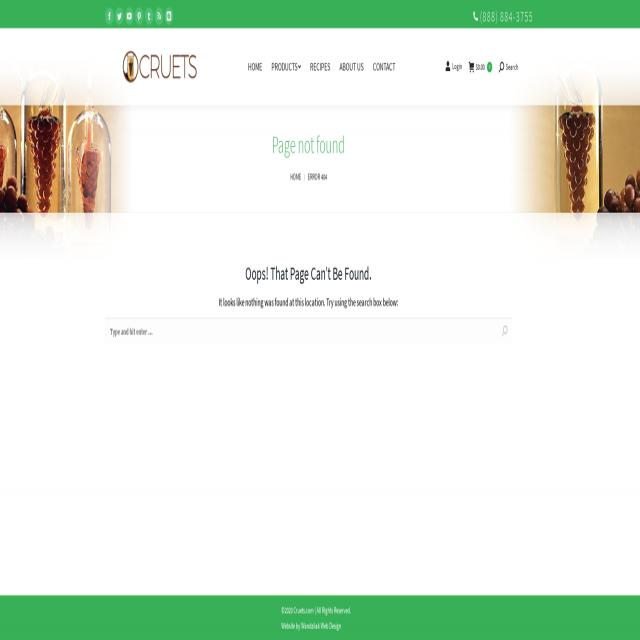button: (122, 49, 198, 85), (267, 54, 305, 80), (335, 54, 368, 80), (368, 54, 399, 80), (306, 54, 334, 80), (244, 54, 267, 80), (105, 7, 114, 24), (502, 318, 508, 343), (115, 7, 123, 24), (125, 7, 133, 24), (135, 7, 143, 24), (145, 7, 153, 24), (155, 7, 163, 24), (165, 7, 173, 24)
field: (105, 317, 511, 344)
